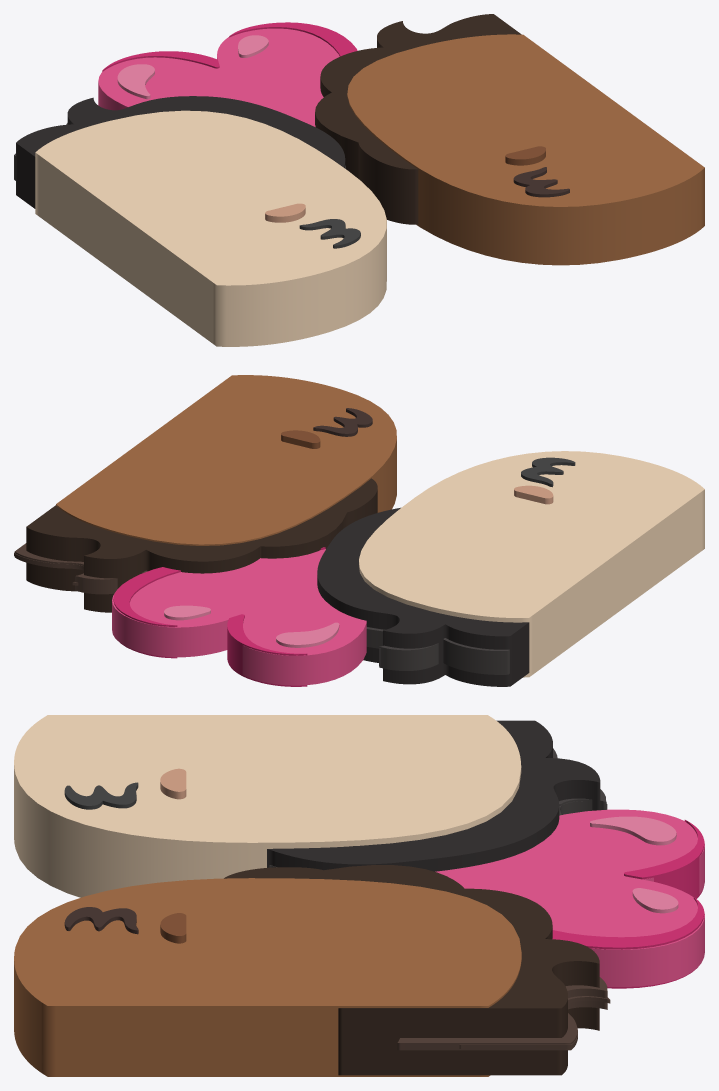
The model's file is emoji_u1f9d1_1f3fb_200d_2764_200d_1f48b_200d_1f9d1_1f3fe.glb.
The picture shows the model from 3 angles, top to bottom: view 1: azimuth 30°, elevation 25°; view 2: azimuth 150°, elevation 25°; view 3: azimuth 270°, elevation 25°; orthographic projection. The views are drawn at different scales.
Parts seen in each view (by area): view 1: emoji_u1f9d1_1f3fb_200d_2764_200d_1f48b_200d_1f9d1_1f3fe; view 2: emoji_u1f9d1_1f3fb_200d_2764_200d_1f48b_200d_1f9d1_1f3fe; view 3: emoji_u1f9d1_1f3fb_200d_2764_200d_1f48b_200d_1f9d1_1f3fe.
Boxes of the visible parts, <box> form: emoji_u1f9d1_1f3fb_200d_2764_200d_1f48b_200d_1f9d1_1f3fe: <box>14,14,704,346</box>; emoji_u1f9d1_1f3fb_200d_2764_200d_1f48b_200d_1f9d1_1f3fe: <box>14,375,704,686</box>; emoji_u1f9d1_1f3fb_200d_2764_200d_1f48b_200d_1f9d1_1f3fe: <box>14,715,704,1076</box>.
Bounding box in the file's own units: 0.0339 × 0.0048 × 0.0336.
